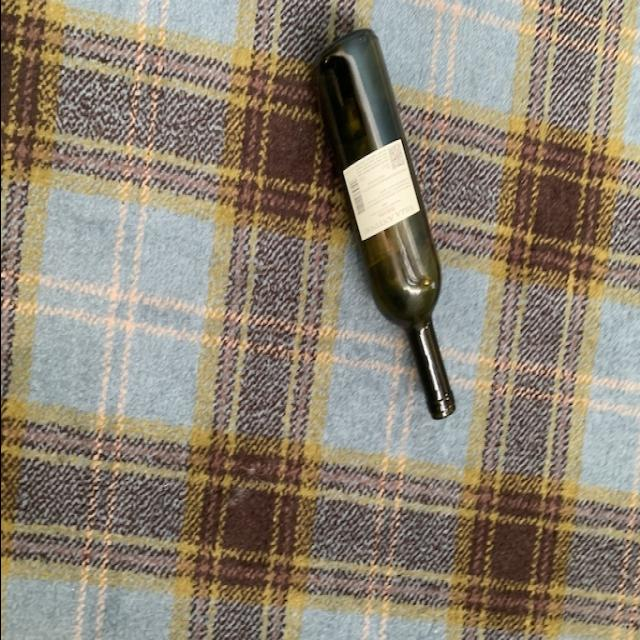Glass Bottle: (310, 29, 462, 419)
